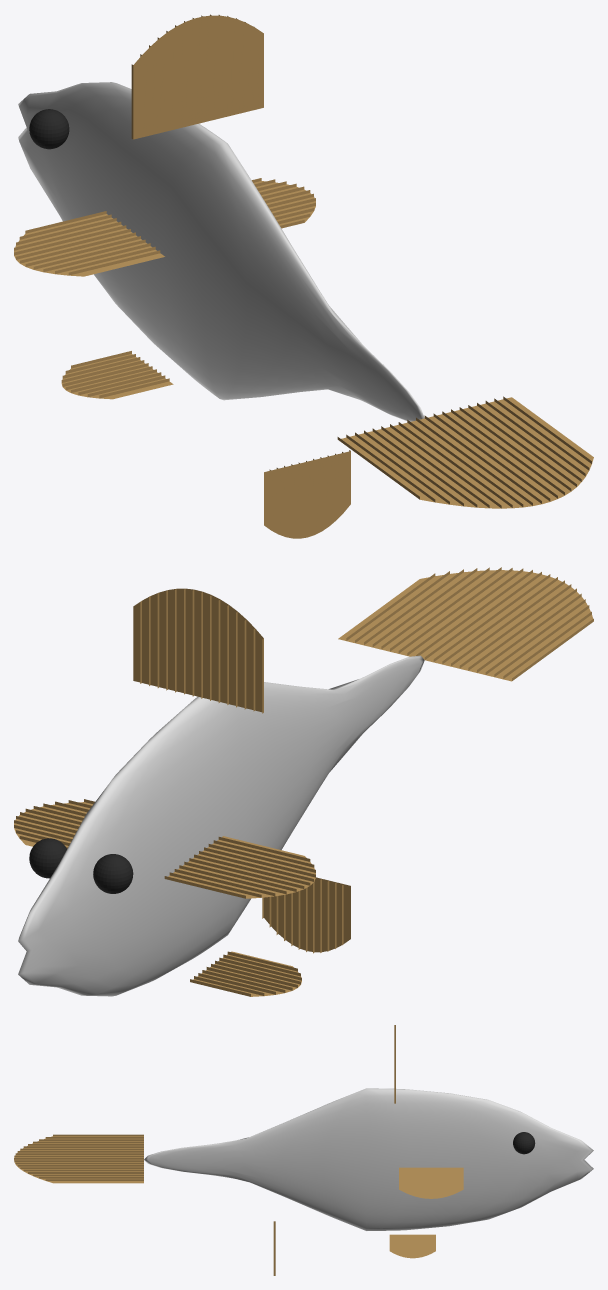
3 views of the same model, one above another, from view 1: azimuth 30°, elevation 25°; view 2: azimuth 150°, elevation 25°; view 3: azimuth 270°, elevation 25° (orthographic). The views are drawn at different scales.
Visible parts, largest first — view 1: FishBody, CaudalFin, DorsalFin, PectoralFin_R, AnalFin, PelvicFin_R, PectoralFin_L, Sphere.001; view 2: FishBody, CaudalFin, DorsalFin, PectoralFin_R, AnalFin, PelvicFin_R, PectoralFin_L, Sphere.001, Sphere; view 3: FishBody, CaudalFin, PectoralFin_L, PelvicFin_L, Sphere.
Boxes of the visible parts, box(x1,y1,x2,y2) form: FishBody: box(18, 82, 424, 421); CaudalFin: box(337, 396, 593, 508); DorsalFin: box(131, 14, 263, 139); PectoralFin_R: box(14, 211, 164, 276); AnalFin: box(264, 450, 350, 538); PelvicFin_R: box(61, 351, 173, 399); PectoralFin_L: box(252, 178, 315, 228); Sphere.001: box(29, 109, 69, 149); FishBody: box(18, 655, 424, 996); CaudalFin: box(338, 567, 593, 681); DorsalFin: box(133, 588, 263, 713); PectoralFin_R: box(164, 836, 315, 898); AnalFin: box(262, 877, 350, 953); PelvicFin_R: box(190, 951, 301, 996); PectoralFin_L: box(14, 799, 94, 848); Sphere.001: box(93, 854, 133, 893); Sphere: box(29, 838, 66, 878); FishBody: box(144, 1088, 593, 1231); CaudalFin: box(14, 1134, 143, 1183); PectoralFin_L: box(399, 1167, 463, 1198); PelvicFin_L: box(389, 1234, 435, 1258); Sphere: box(513, 1132, 535, 1154).
Bounding box in the file's own units: 2 × 2.9 × 6.25.
